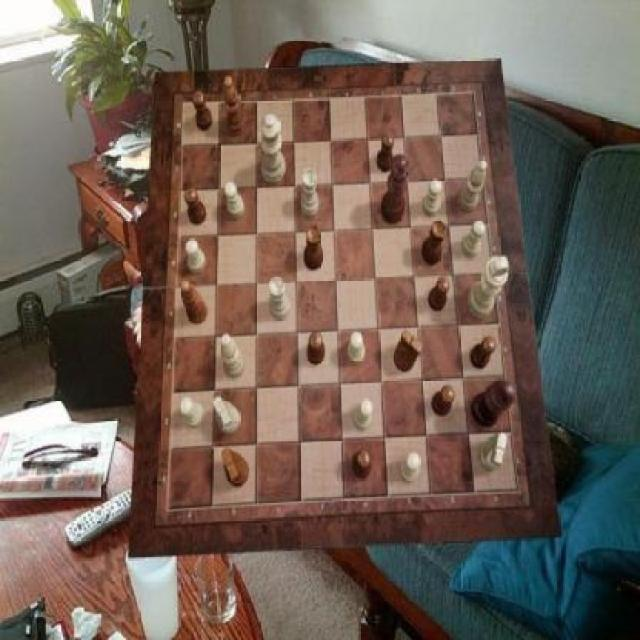bishop: (180, 278, 209, 324), (224, 77, 246, 137)
black-bishop: (470, 380, 514, 428)
black-king: (394, 329, 421, 372), (222, 448, 249, 488)
black-knight: (472, 337, 497, 371), (185, 186, 207, 224), (194, 91, 214, 131), (432, 385, 456, 417), (428, 277, 450, 311), (375, 134, 393, 174), (352, 449, 372, 480), (308, 332, 325, 366)
black-pawn: (382, 153, 412, 224)
black-queen: (423, 220, 448, 266), (304, 224, 324, 270)
black-rook: (458, 160, 488, 212), (220, 332, 245, 378)
white-bishop: (466, 256, 509, 320)
white-king: (478, 432, 508, 472), (214, 397, 241, 435)
white-knight: (463, 220, 486, 258), (180, 397, 205, 429), (226, 182, 246, 219), (398, 452, 421, 483), (354, 398, 374, 432), (186, 239, 206, 273), (423, 179, 441, 216), (348, 330, 365, 364)
white-pawn: (260, 114, 286, 183)
white-queen: (269, 277, 292, 319), (300, 169, 319, 217)
